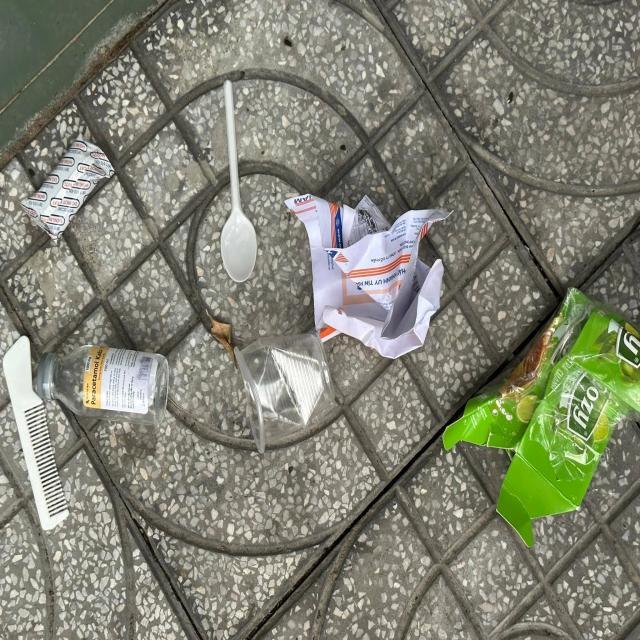bottle: (37, 344, 169, 426)
cardboard box: (442, 286, 640, 550)
packet: (20, 134, 113, 242)
paper: (283, 192, 452, 361)
plastic glass: (233, 334, 336, 456)
plastic utensil: (220, 81, 258, 282)
